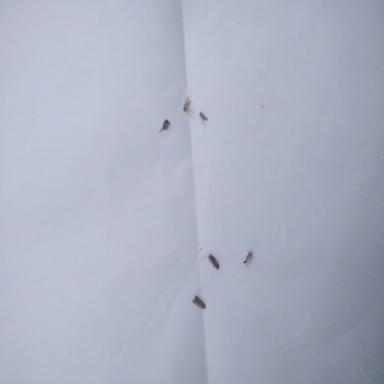pbw: (203, 252, 219, 270), (192, 295, 206, 309), (243, 250, 252, 268)
